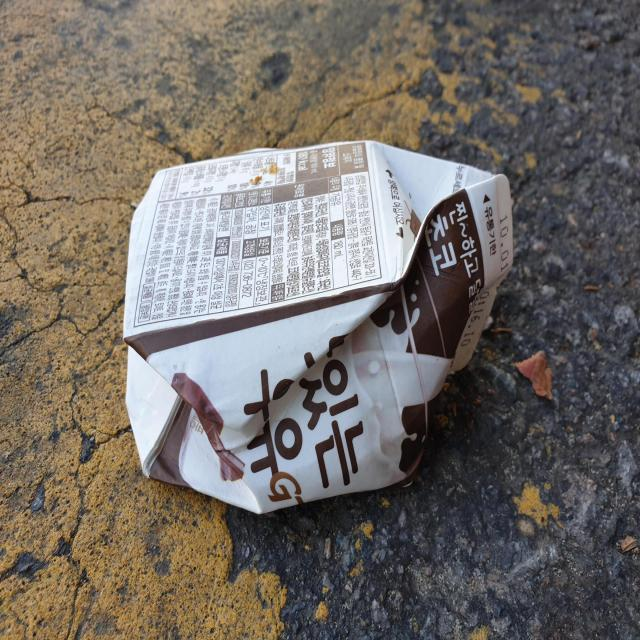paperpack: (123, 140, 514, 514)
